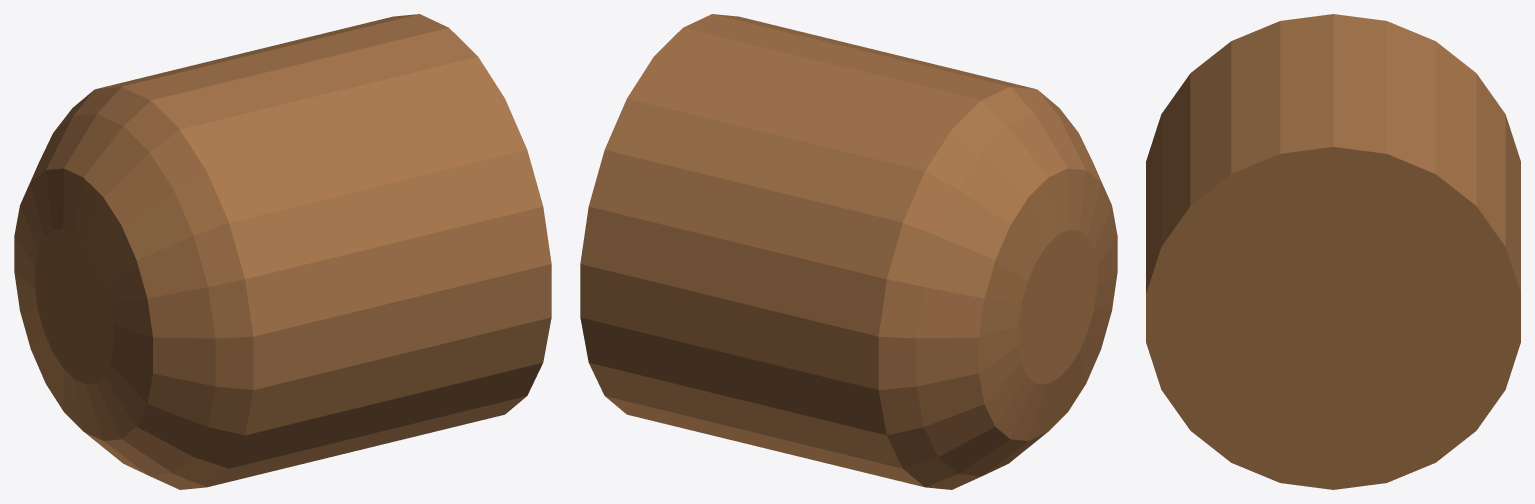
File: 9mm_Bullet.fbx
3 views of the same model, side by side, from view 1: azimuth 30°, elevation 25°; view 2: azimuth 150°, elevation 25°; view 3: azimuth 270°, elevation 25° (orthographic). The views are drawn at different scales.
Parts seen in each view (by area): view 1: Ninemm_Bullet; view 2: Ninemm_Bullet; view 3: Ninemm_Bullet.
Boxes of the visible parts, left/top/right/bottom form: Ninemm_Bullet: left=14, top=14, right=551, bottom=489; Ninemm_Bullet: left=580, top=14, right=1117, bottom=489; Ninemm_Bullet: left=1146, top=14, right=1520, bottom=489.
Size of the model in its own units: 0.1197 by 0.1146 by 0.1135.
